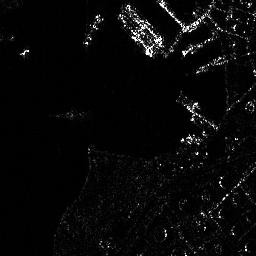ship: (82, 13, 102, 47)
